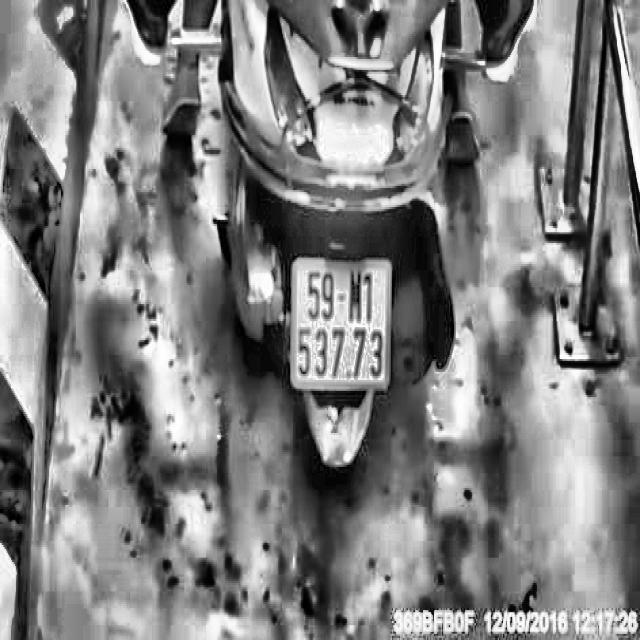plate: (288, 247, 396, 398)
